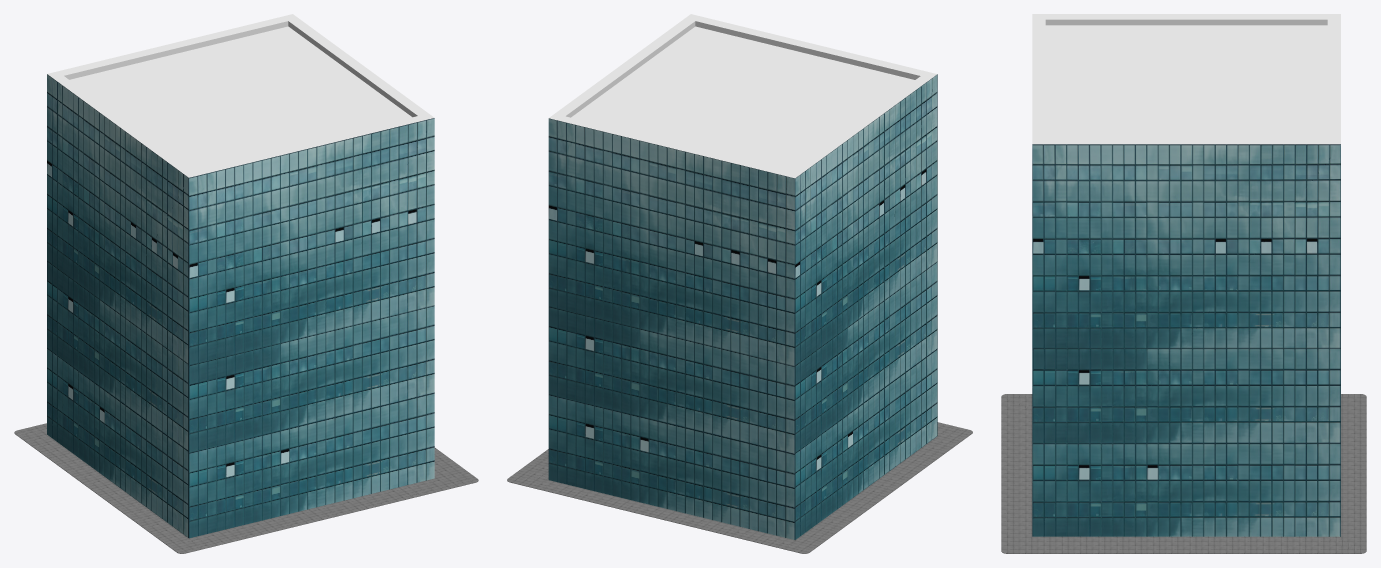
File: Building 1.FBX
3 renders of one model, left to right at view 1: azimuth 30°, elevation 25°; view 2: azimuth 150°, elevation 25°; view 3: azimuth 270°, elevation 25°, orthographic. The views are drawn at different scales.
Parts seen in each view (by area): view 1: Building 1; view 2: Building 1; view 3: Building 1.
Part boxes in pixels (<box>): Building 1: <box>14,14,478,553</box>; Building 1: <box>507,14,972,553</box>; Building 1: <box>1001,14,1366,553</box>.
Bounding box in the file's own units: 4285 × 4912 × 4141.
2 materials, 2 textured.
